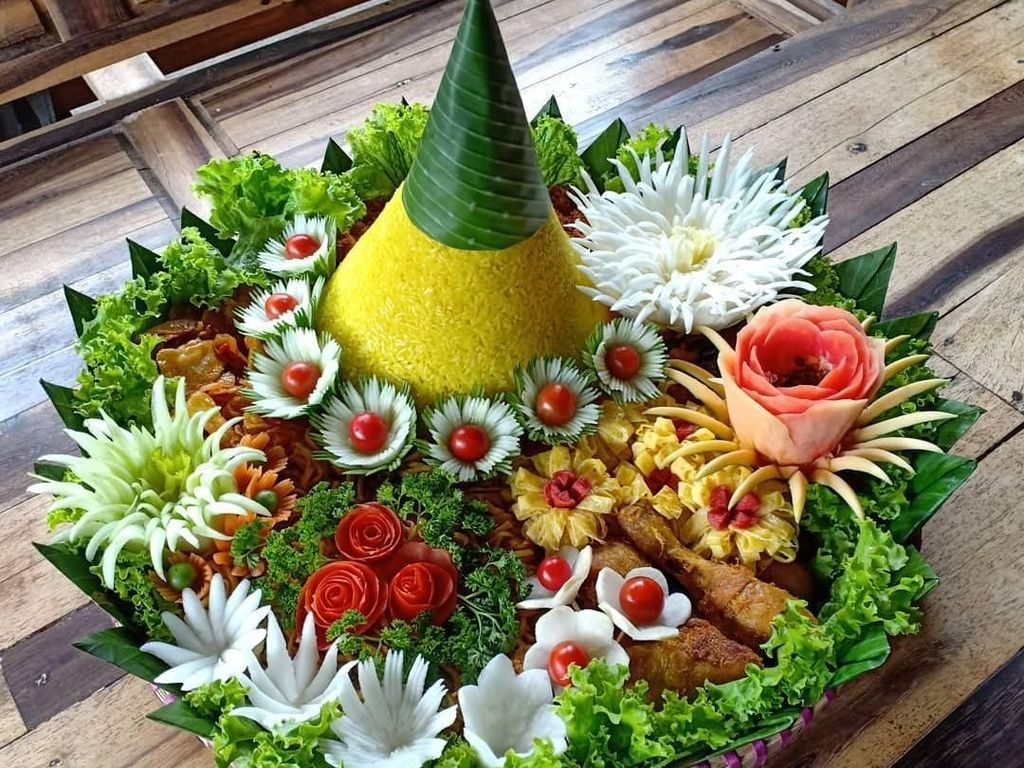tumpeng: (322, 3, 650, 363)
